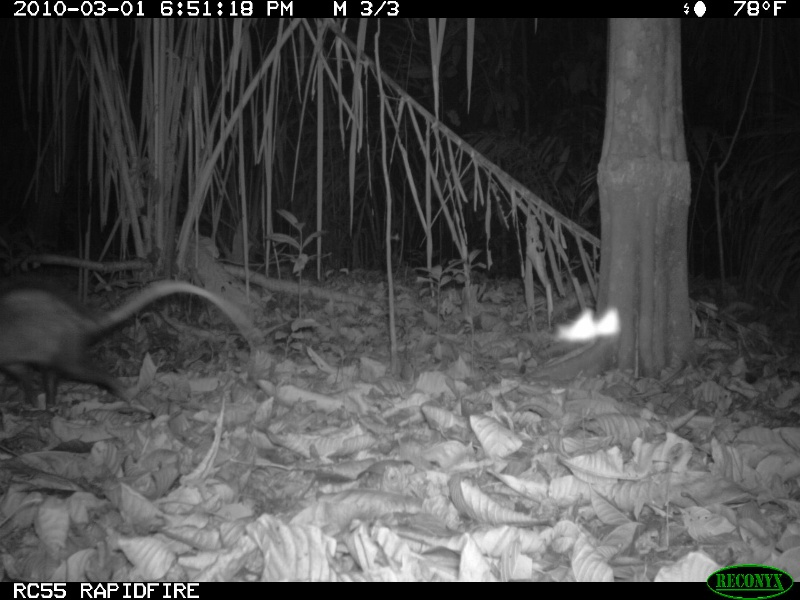opossum: (1, 268, 265, 418)
